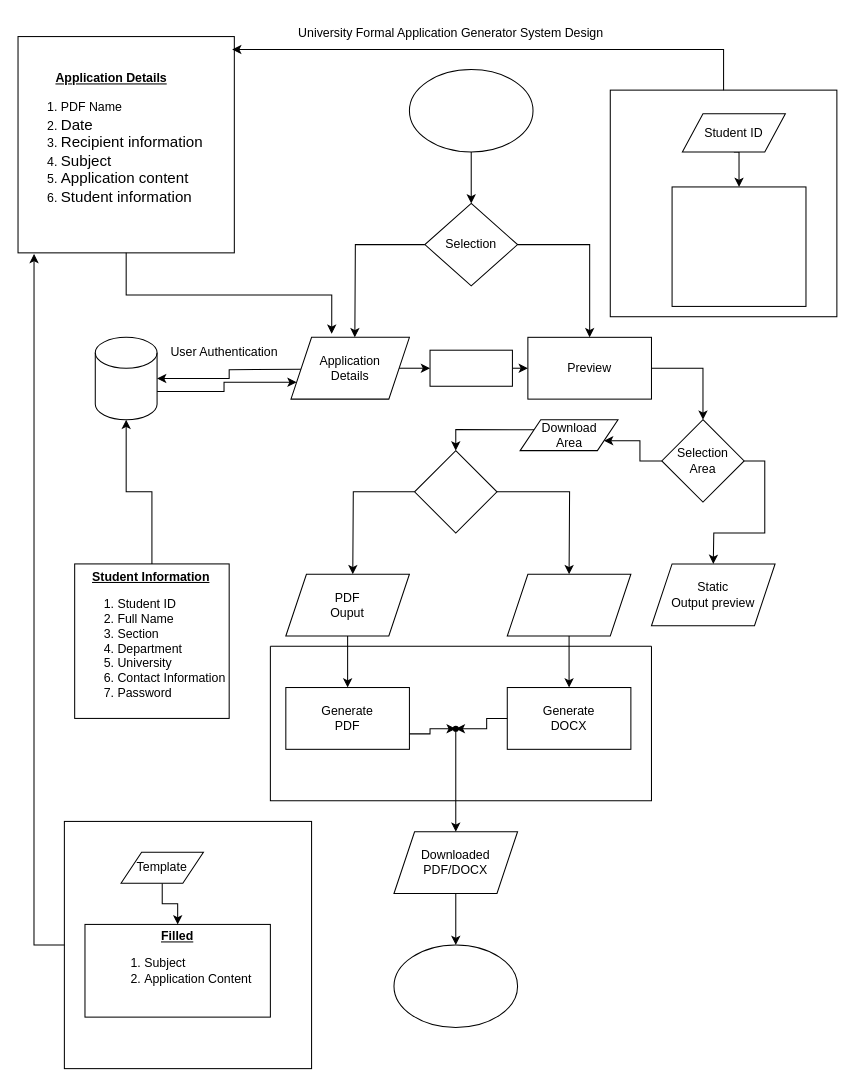
This 855x1087 diagram has some shape labels left out. The shapes that lost their labels are listed below. From the top down, each one's box as (x1, y1, x2, y2) in pixels, then its label:
(408, 68, 533, 152): User
(671, 186, 806, 306): Full Name Section Department University Contact Information Password
(94, 336, 157, 420): Data Base
(429, 349, 512, 386): Processing input data
(414, 450, 497, 533): Format Selection
(506, 573, 631, 636): DOCX Output
(269, 645, 651, 801): Backend
(393, 944, 518, 1027): End
